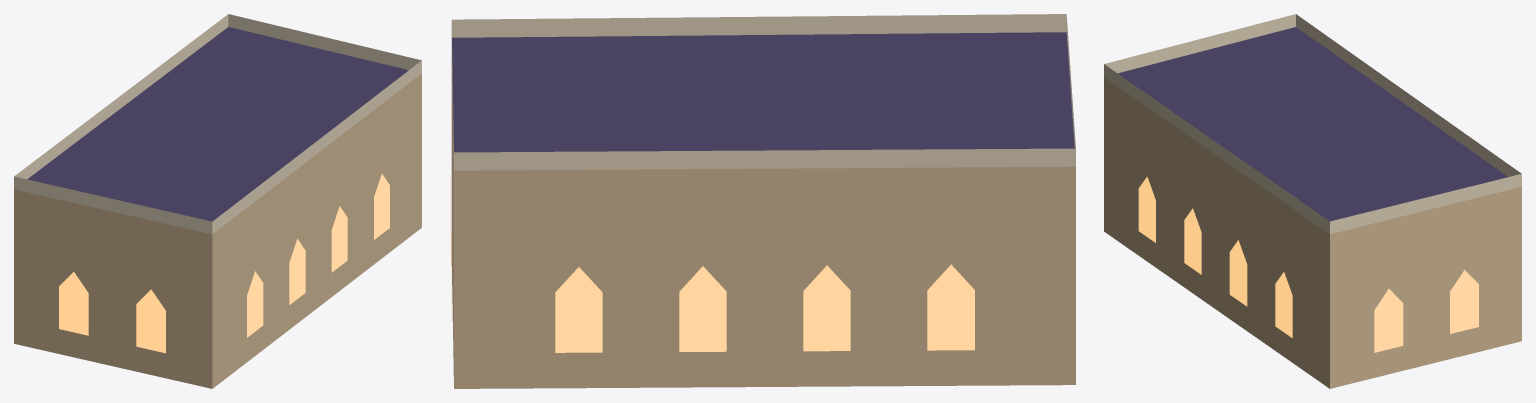
3 renders of one model, left to right at view 1: azimuth 30°, elevation 25°; view 2: azimuth 150°, elevation 25°; view 3: azimuth 270°, elevation 25°, orthographic. The views are drawn at different scales.
Visible parts, largest first — view 1: campus/b-066-0; view 2: campus/b-066-0; view 3: campus/b-066-0.
Boxes of the visible parts, <box> form: campus/b-066-0: <box>14,14,421,388</box>; campus/b-066-0: <box>450,14,1075,388</box>; campus/b-066-0: <box>1104,14,1521,388</box>.
Size of the model in its own units: 18.99 by 7.15 by 16.16.
